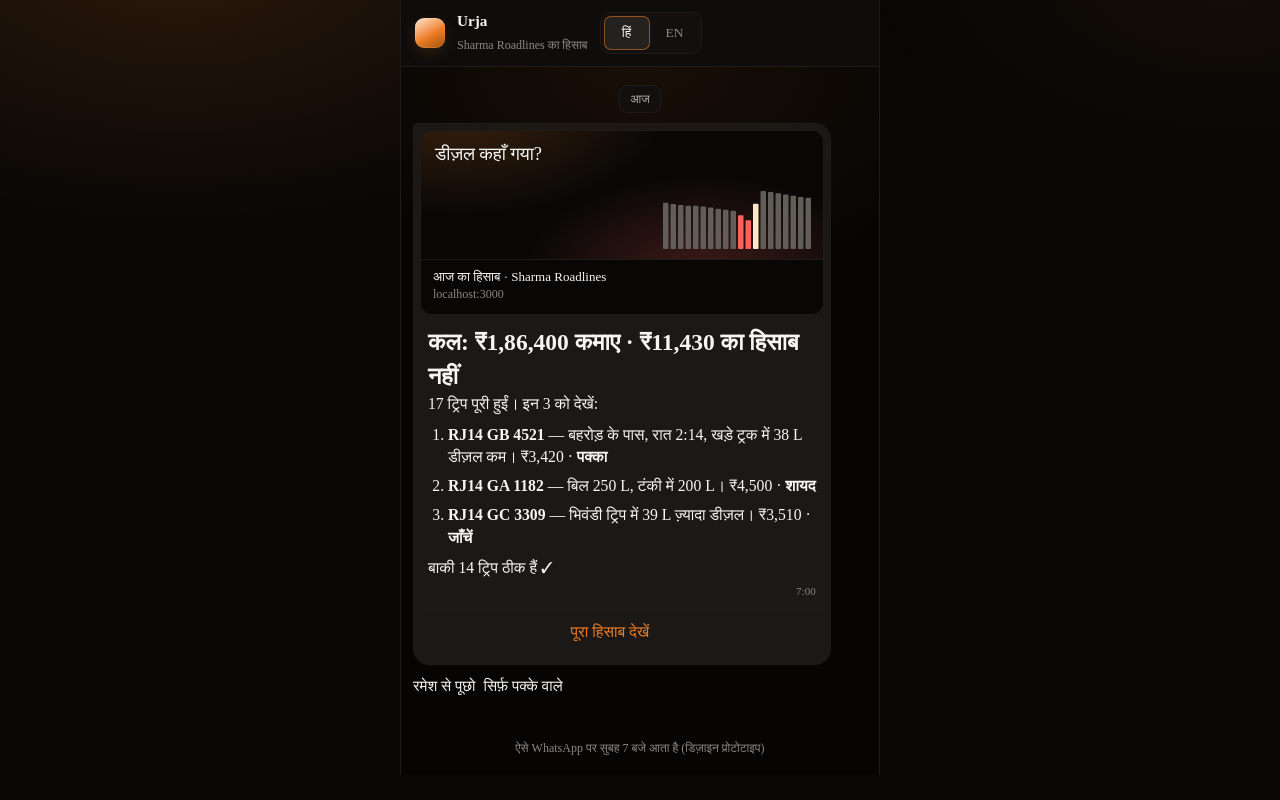
Scenario: Chat (the 7 AM message) › links the quick replies per §5.5 and the brief action, in the current language
The width and height of the screenshot is (1280, 800).
Click the button "EN".
click(674, 33)  # box [652,16,698,50]
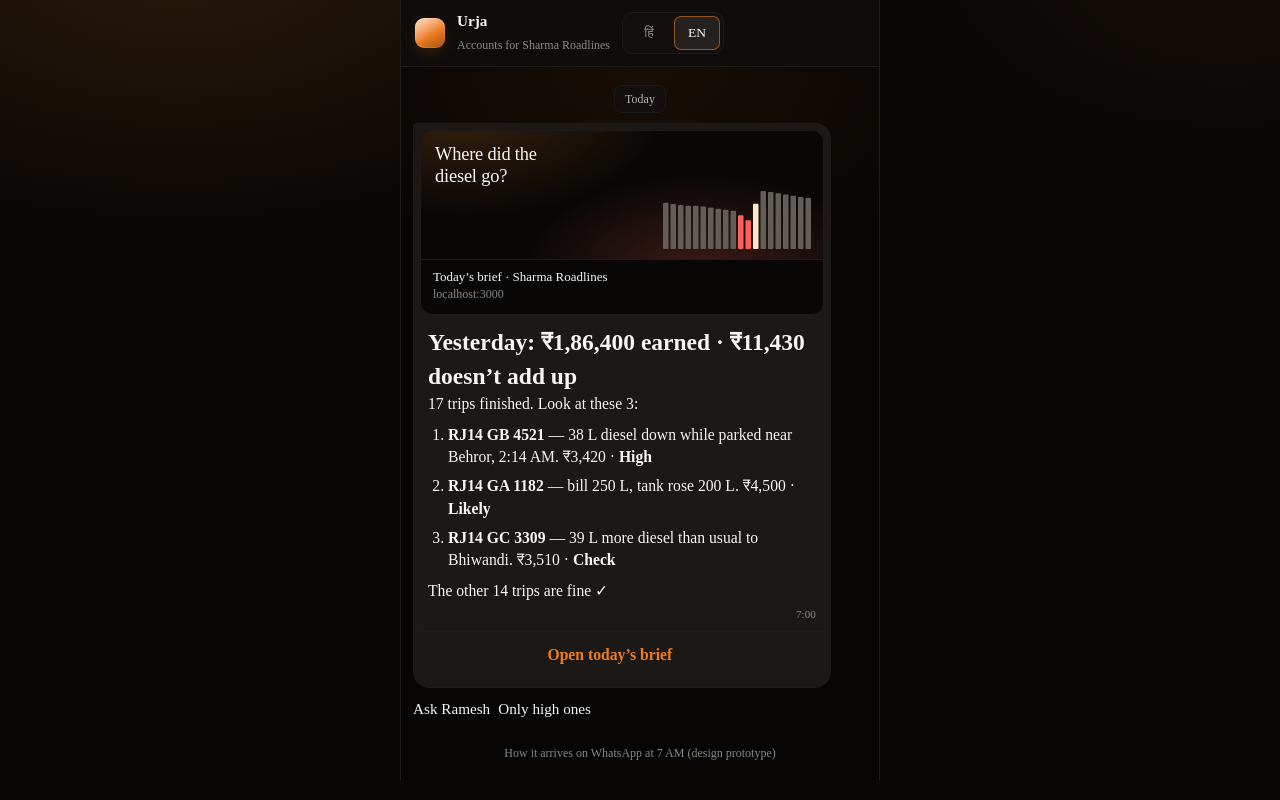
Result: the list item that starts with "RJ14 GB 4521" reads "RJ14 GB 4521 — 38 L diesel down while parked near Behror, 2:14 AM. ₹3,420 · High" at [448,424,816,469]
